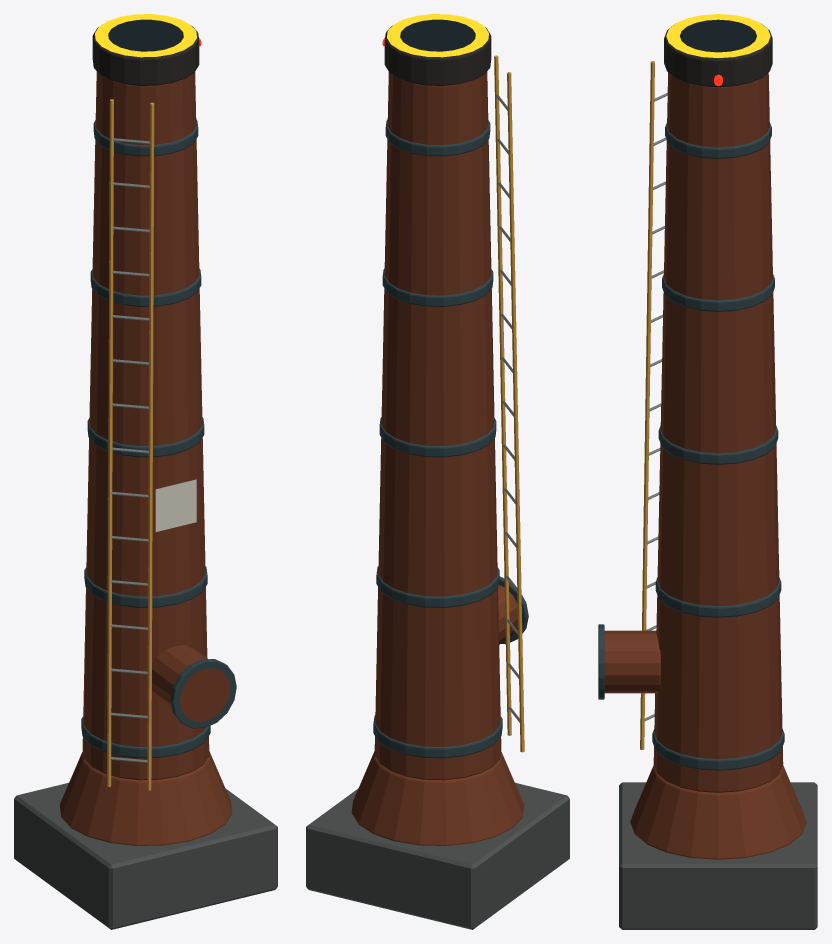
The model's file is tall-smokestack.glb.
3 renders of one model, left to right at view 1: azimuth 30°, elevation 25°; view 2: azimuth 150°, elevation 25°; view 3: azimuth 270°, elevation 25°, orthographic.
Parts seen in each view (by area): view 1: tall-smokestack__tall-smokestack__rust, tall-smokestack__tall-smokestack__concrete-dark, tall-smokestack__tall-smokestack__steel, tall-smokestack__tall-smokestack__amber, tall-smokestack__tall-smokestack__soot, tall-smokestack__tall-smokestack__hardware, tall-smokestack__tall-smokestack__rubber, tall-smokestack__tall-smokestack__decal-ivory, tall-smokestack__tall-smokestack__molten; view 2: tall-smokestack__tall-smokestack__rust, tall-smokestack__tall-smokestack__concrete-dark, tall-smokestack__tall-smokestack__steel, tall-smokestack__tall-smokestack__amber, tall-smokestack__tall-smokestack__soot, tall-smokestack__tall-smokestack__rubber, tall-smokestack__tall-smokestack__molten, tall-smokestack__tall-smokestack__hardware; view 3: tall-smokestack__tall-smokestack__rust, tall-smokestack__tall-smokestack__concrete-dark, tall-smokestack__tall-smokestack__steel, tall-smokestack__tall-smokestack__soot, tall-smokestack__tall-smokestack__amber, tall-smokestack__tall-smokestack__rubber, tall-smokestack__tall-smokestack__molten, tall-smokestack__tall-smokestack__hardware.
Part boxes in pixels (<box>): tall-smokestack__tall-smokestack__rust: <box>59,71,232,845</box>; tall-smokestack__tall-smokestack__concrete-dark: <box>14,782,277,929</box>; tall-smokestack__tall-smokestack__steel: <box>81,119,236,758</box>; tall-smokestack__tall-smokestack__amber: <box>107,99,154,790</box>; tall-smokestack__tall-smokestack__soot: <box>92,19,199,85</box>; tall-smokestack__tall-smokestack__hardware: <box>110,138,150,762</box>; tall-smokestack__tall-smokestack__rubber: <box>108,20,183,51</box>; tall-smokestack__tall-smokestack__decal-ivory: <box>155,479,196,531</box>; tall-smokestack__tall-smokestack__molten: <box>95,14,196,57</box>; tall-smokestack__tall-smokestack__rust: <box>351,71,524,845</box>; tall-smokestack__tall-smokestack__concrete-dark: <box>306,782,569,929</box>; tall-smokestack__tall-smokestack__steel: <box>373,119,528,758</box>; tall-smokestack__tall-smokestack__amber: <box>494,55,524,752</box>; tall-smokestack__tall-smokestack__soot: <box>384,19,491,85</box>; tall-smokestack__tall-smokestack__rubber: <box>400,20,475,51</box>; tall-smokestack__tall-smokestack__molten: <box>387,14,488,57</box>; tall-smokestack__tall-smokestack__hardware: <box>496,94,519,722</box>; tall-smokestack__tall-smokestack__rust: <box>604,72,806,859</box>; tall-smokestack__tall-smokestack__concrete-dark: <box>619,782,817,929</box>; tall-smokestack__tall-smokestack__steel: <box>598,122,784,770</box>; tall-smokestack__tall-smokestack__soot: <box>664,19,772,87</box>; tall-smokestack__tall-smokestack__amber: <box>640,61,654,749</box>; tall-smokestack__tall-smokestack__rubber: <box>680,20,756,52</box>; tall-smokestack__tall-smokestack__molten: <box>666,14,770,57</box>; tall-smokestack__tall-smokestack__hardware: <box>644,92,667,720</box>.
Bounding box in the file's own units: 1.9 × 9.01 × 2.1.
